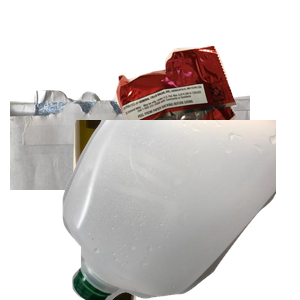glass: (71, 120, 254, 300)
paper: (10, 84, 250, 264)
plastic: (60, 120, 300, 300)
trash: (113, 43, 300, 181)
